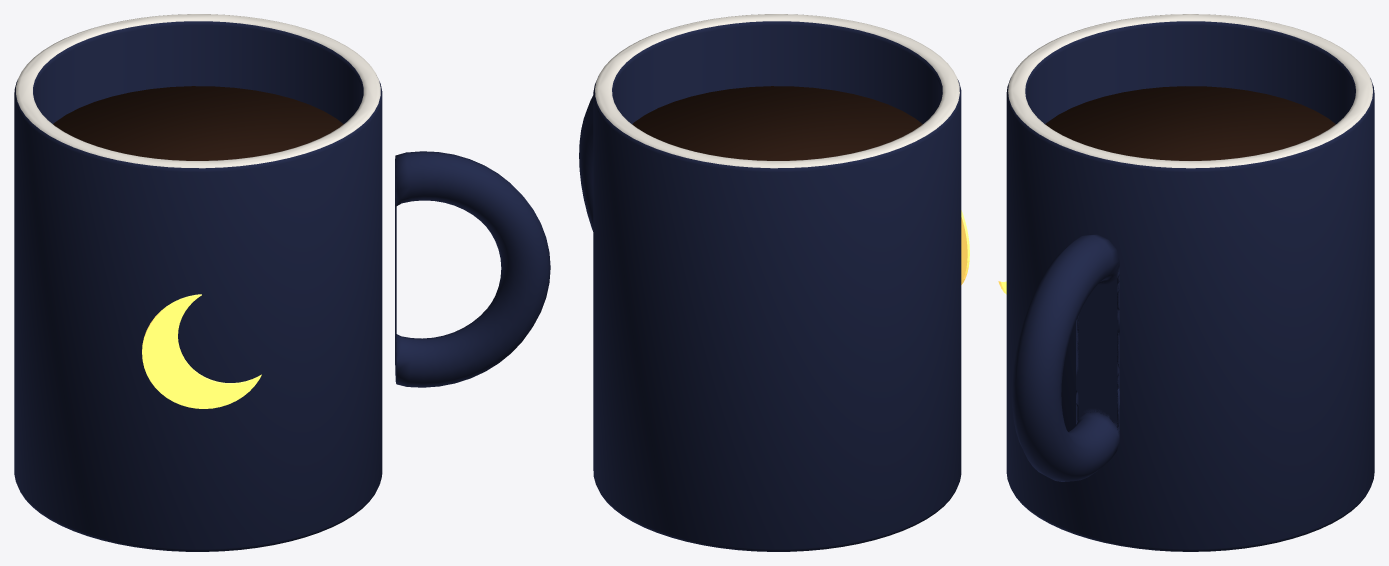
Rendered from mug_moonlight.glb.
The picture shows the model from 3 angles, left to right: view 1: azimuth 30°, elevation 25°; view 2: azimuth 150°, elevation 25°; view 3: azimuth 270°, elevation 25°; orthographic projection.
Parts seen in each view (by area): view 1: mug_moonlight; view 2: mug_moonlight; view 3: mug_moonlight.
Boxes of the visible parts, <box> form: mug_moonlight: <box>14,14,550,551</box>; mug_moonlight: <box>579,14,969,551</box>; mug_moonlight: <box>998,14,1374,551</box>.
Bounding box in the file's own units: 0.111 × 0.095 × 0.0838.
